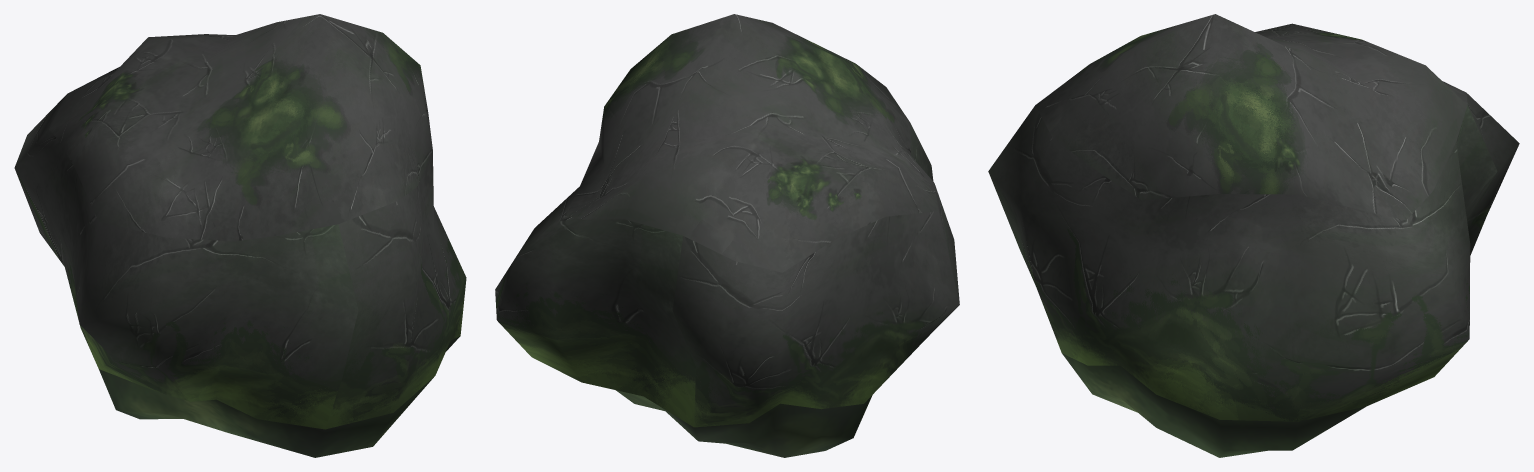
The model's file is forest_rock_1.fbx.
3 views of the same model, side by side, from view 1: azimuth 30°, elevation 25°; view 2: azimuth 150°, elevation 25°; view 3: azimuth 270°, elevation 25° (orthographic). The views are drawn at different scales.
Parts seen in each view (by area): view 1: CA_OPE_Props_Floresta; view 2: CA_OPE_Props_Floresta; view 3: CA_OPE_Props_Floresta.
Part boxes in pixels (bbox=[...]): CA_OPE_Props_Floresta: bbox=[14, 14, 466, 457]; CA_OPE_Props_Floresta: bbox=[495, 14, 959, 457]; CA_OPE_Props_Floresta: bbox=[988, 14, 1519, 457].
Size of the model in its own units: 15.17 by 14.71 by 17.18.
